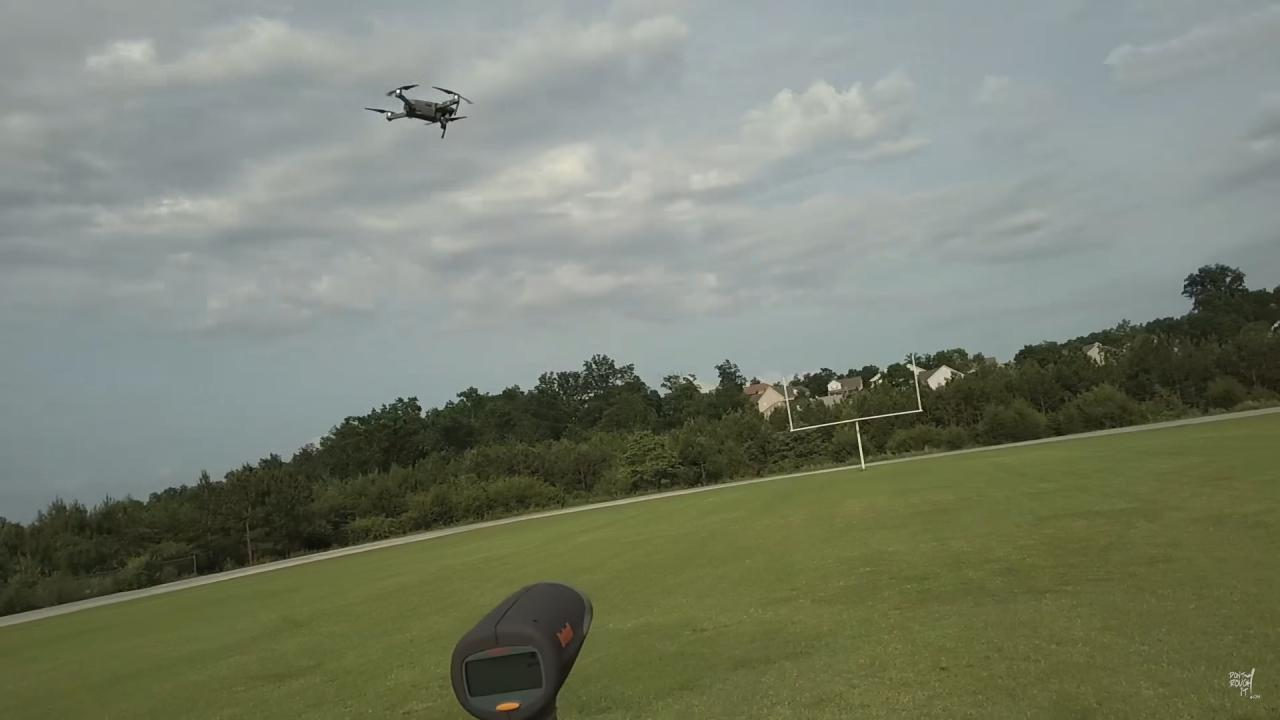Drone: (359, 73, 479, 145)
